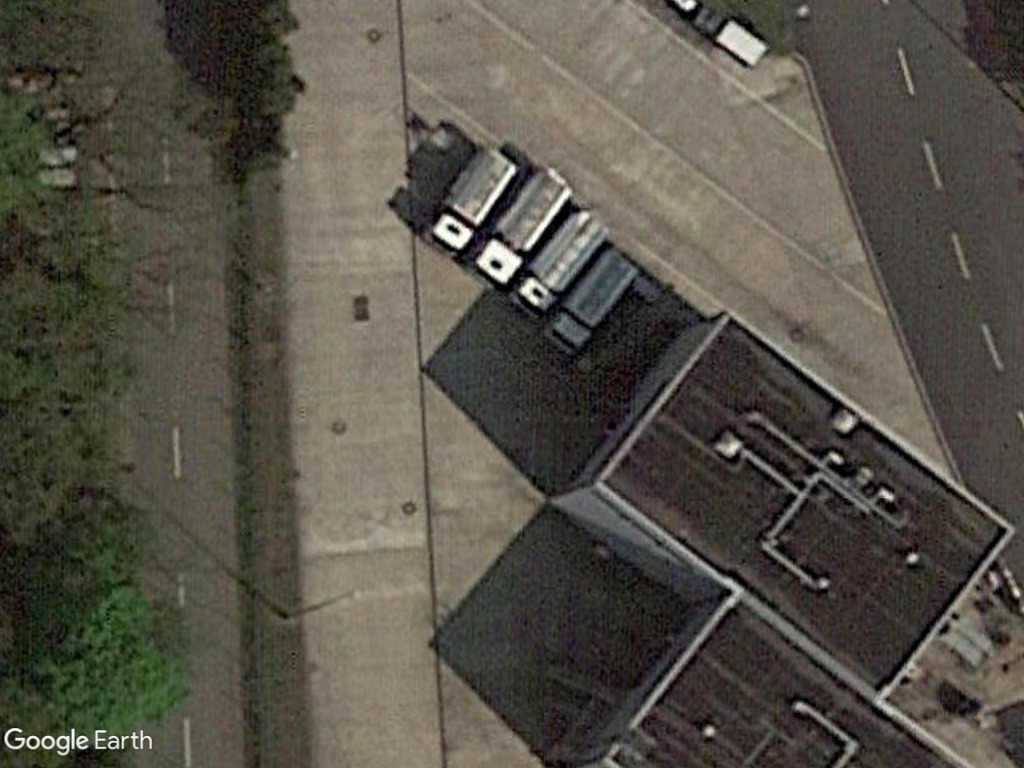truck: (471, 156, 583, 298), (513, 202, 621, 325), (534, 244, 640, 353), (428, 142, 523, 253)
